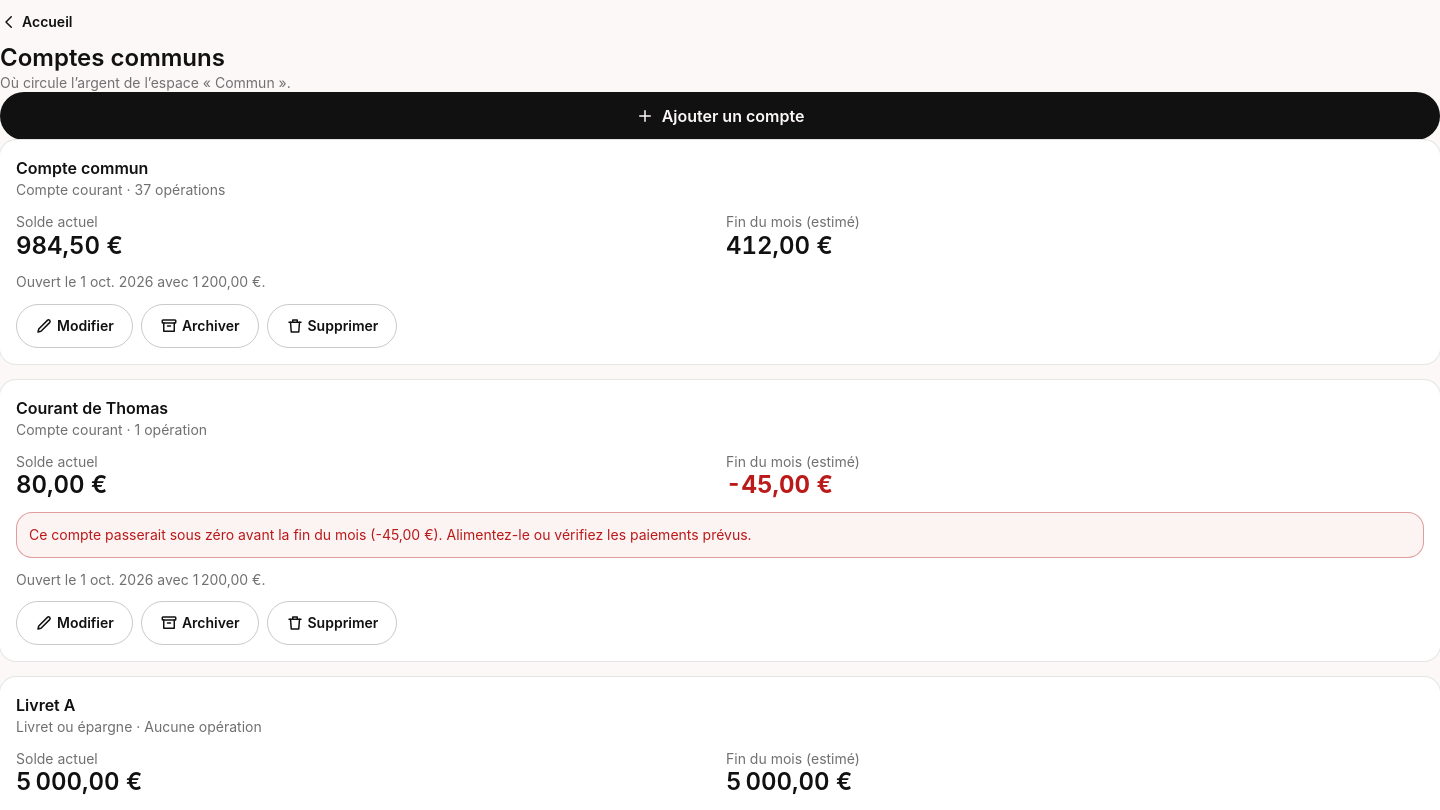
Test: ComptesPage › add and edit › adds an account with a signed opening balance in cents
This screenshot has width=1440, height=810.
Click the button "Ajouter un compte": coordinates (720, 116) left=0, top=92, right=1439, bottom=140
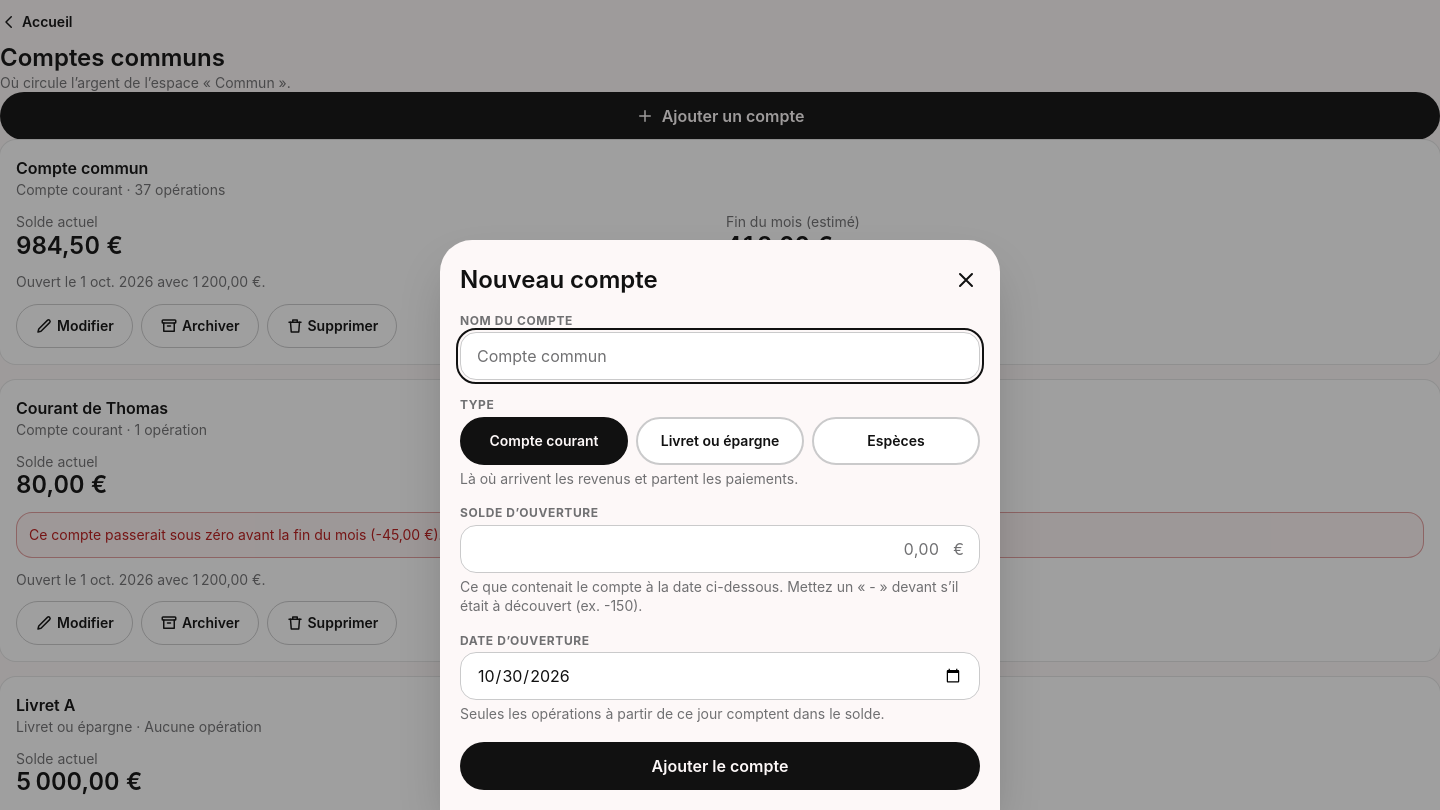
In the field labelled "Nom du compte": coordinates (720, 356) left=460, top=332, right=980, bottom=380, type "Espèces maison"
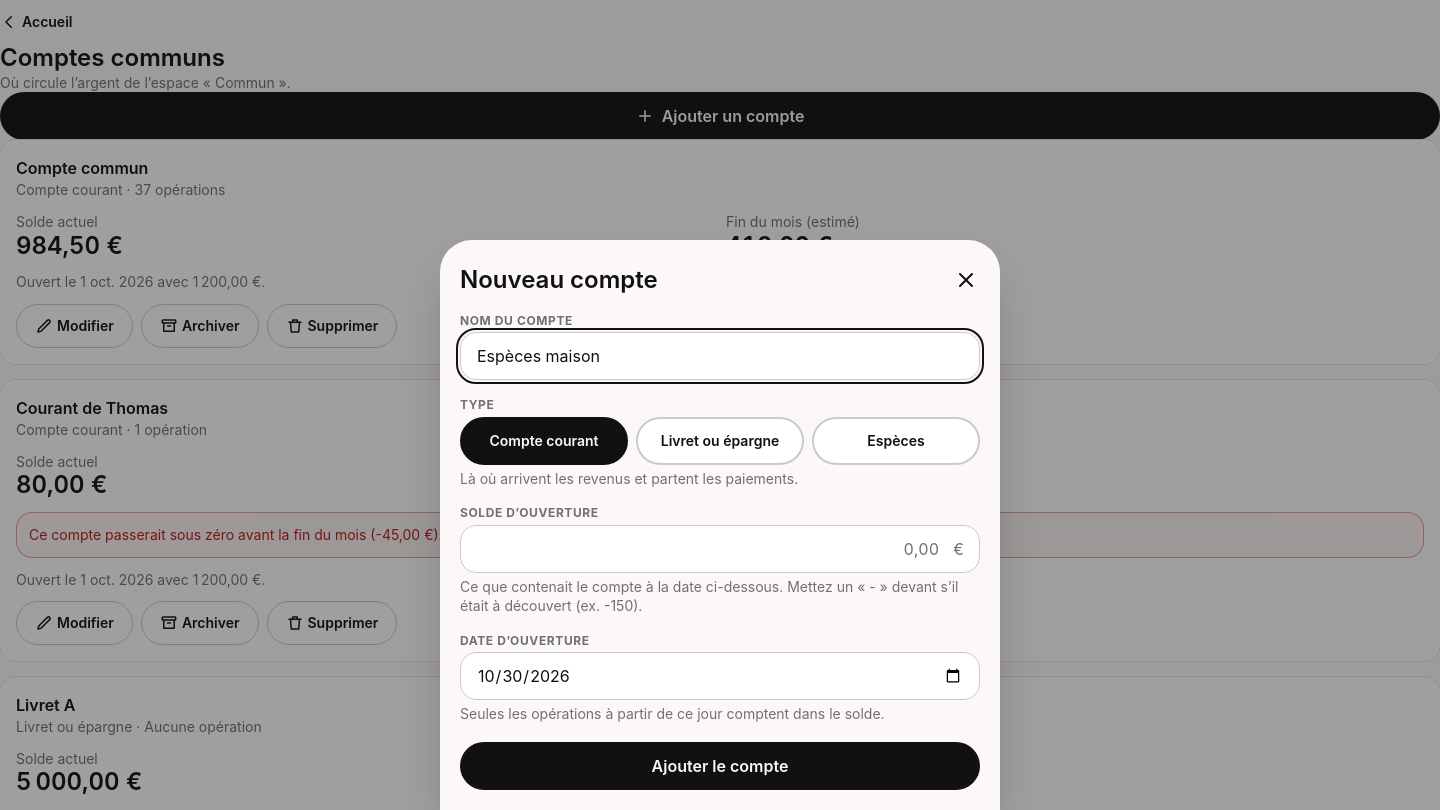
Click the button "Espèces": coordinates (896, 441) left=812, top=417, right=980, bottom=465
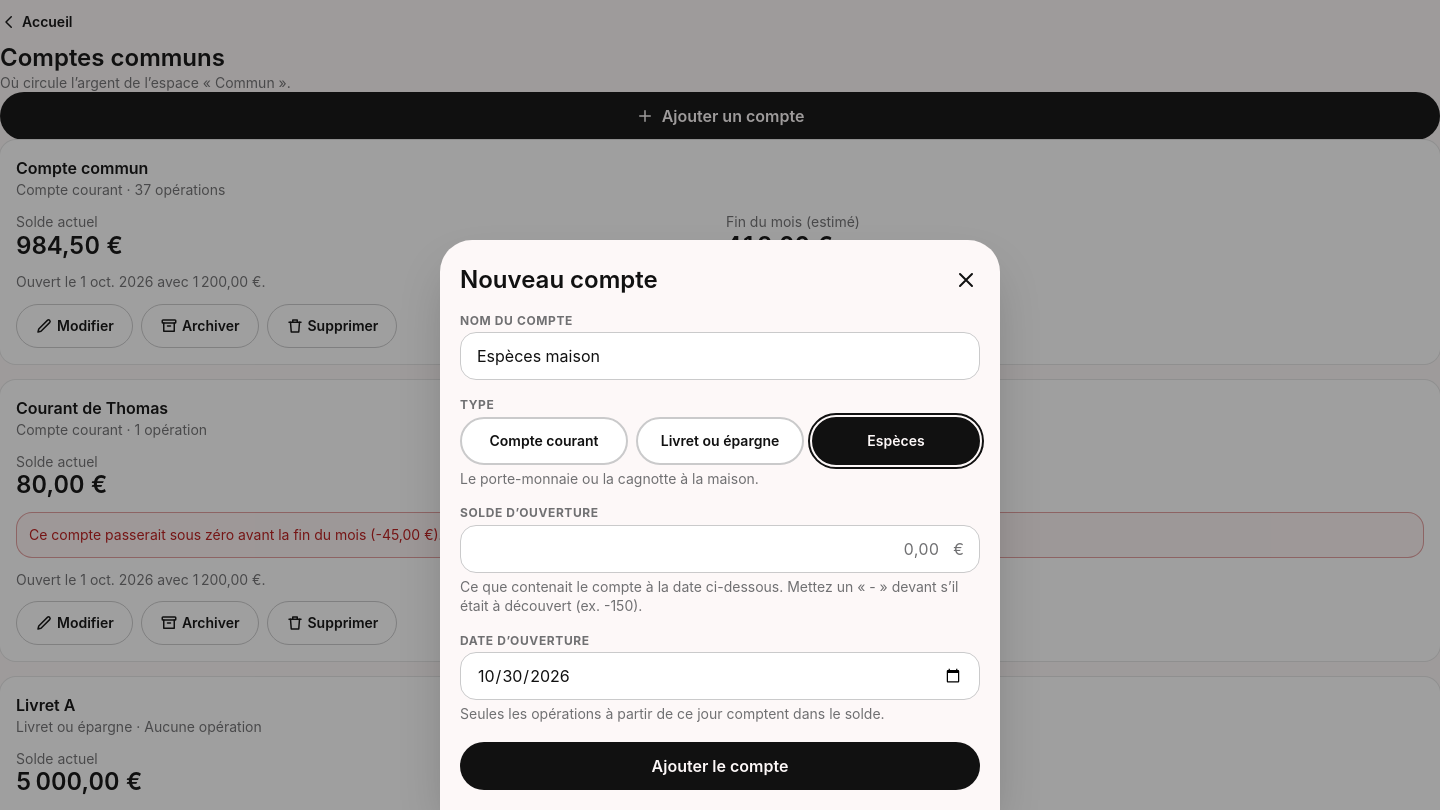
In the field labelled "Solde d’ouverture": coordinates (720, 549) left=460, top=525, right=980, bottom=573, type "-150,50"
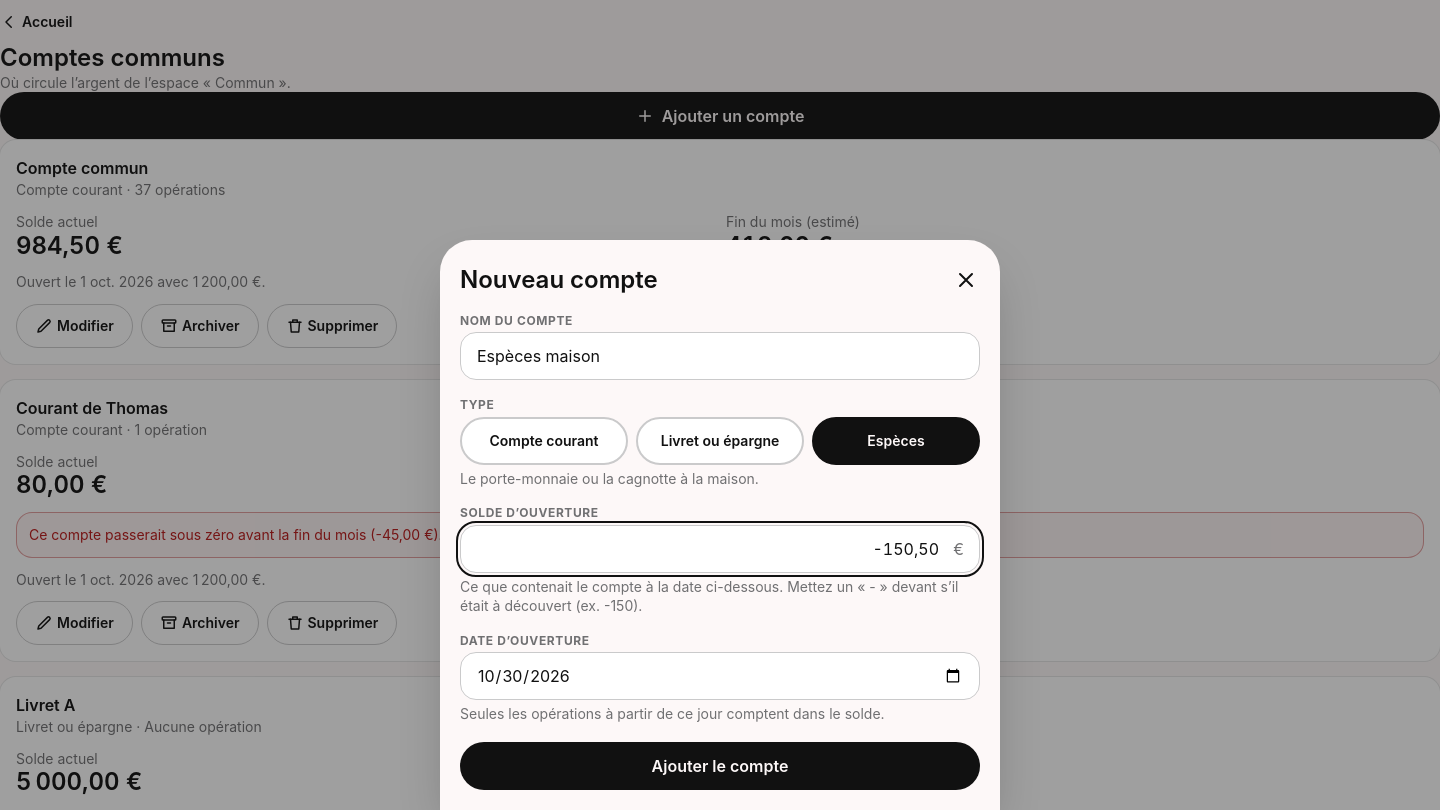
In the date field labelled "Date d’ouverture": coordinates (720, 676) left=460, top=652, right=980, bottom=700, type "2026-11-01"
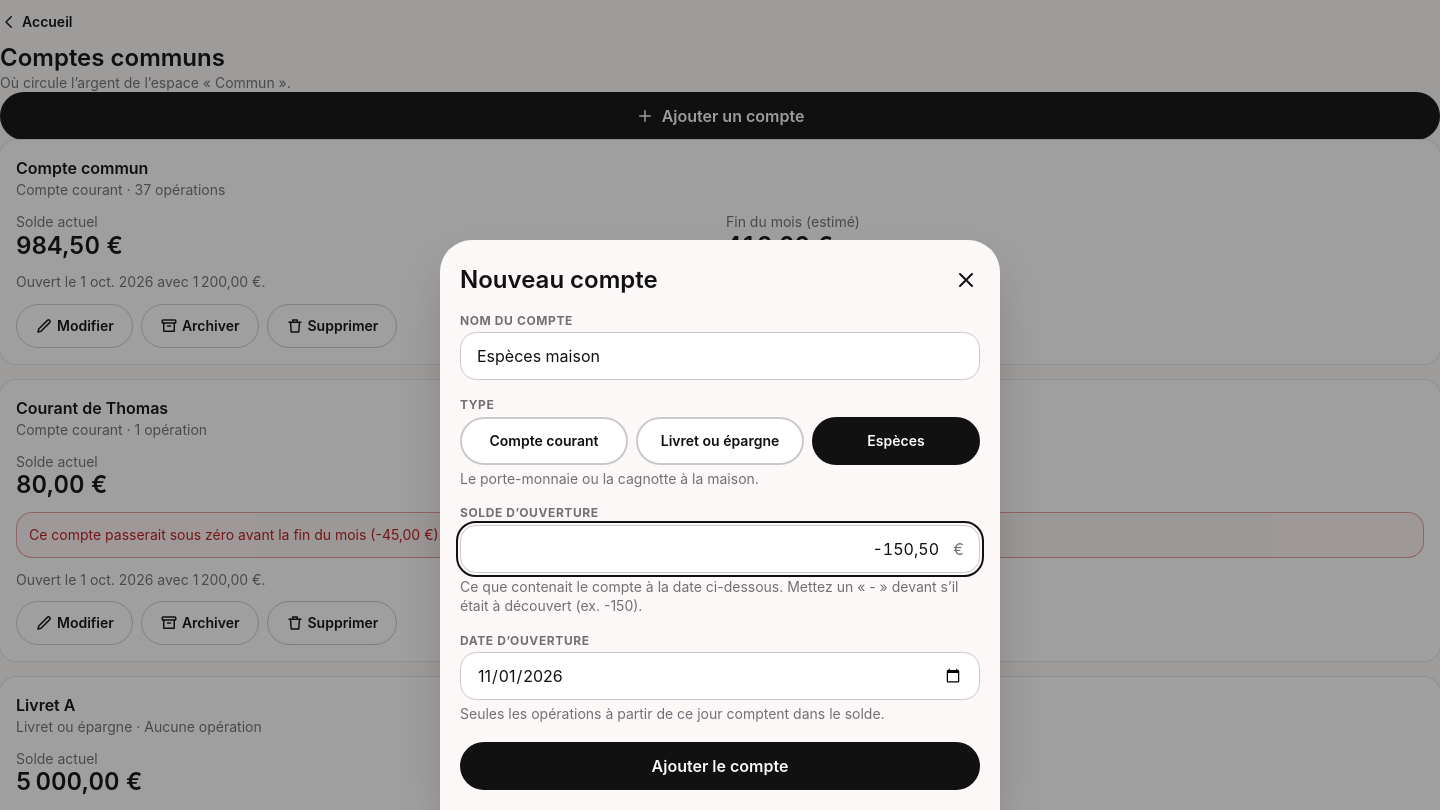
Click the button "Ajouter le compte": coordinates (720, 766) left=460, top=742, right=980, bottom=790
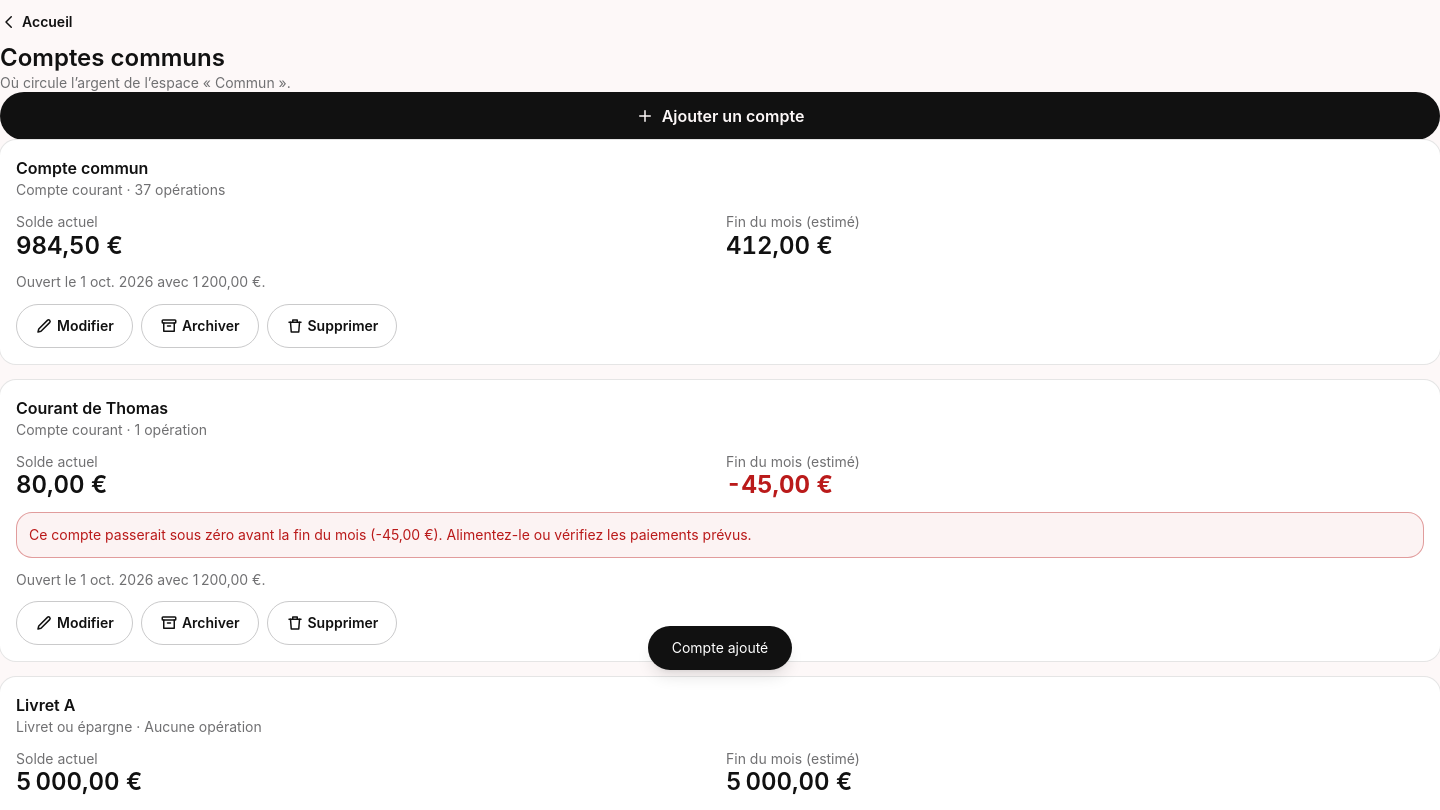
Result: the dialog is gone
